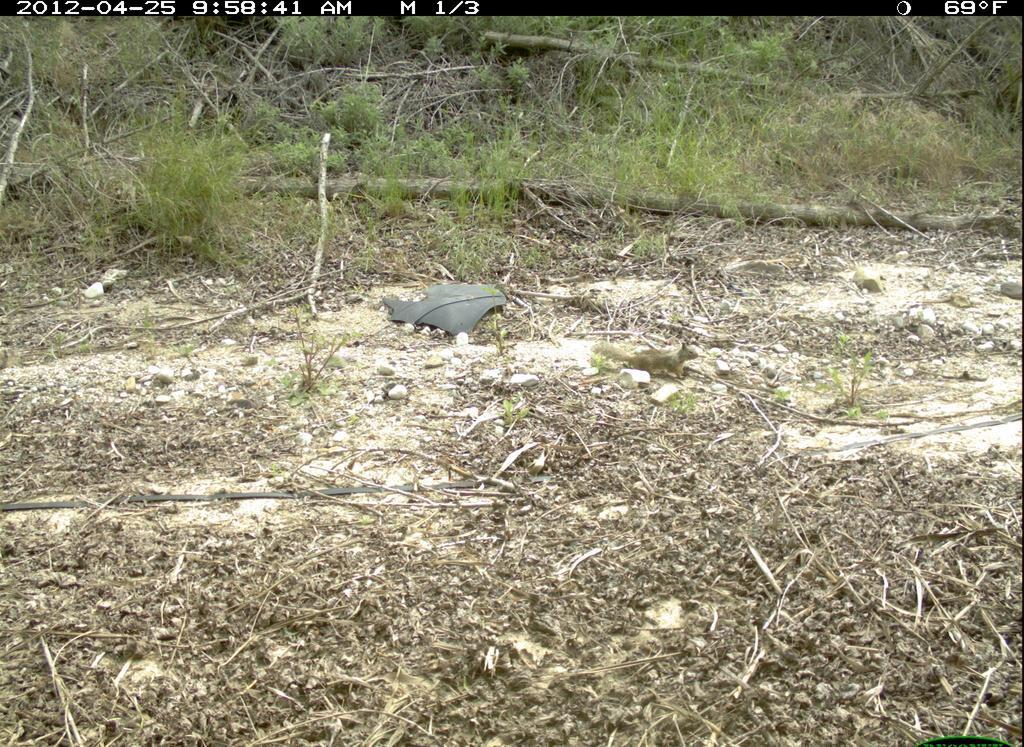squirrel: (585, 336, 705, 390)
